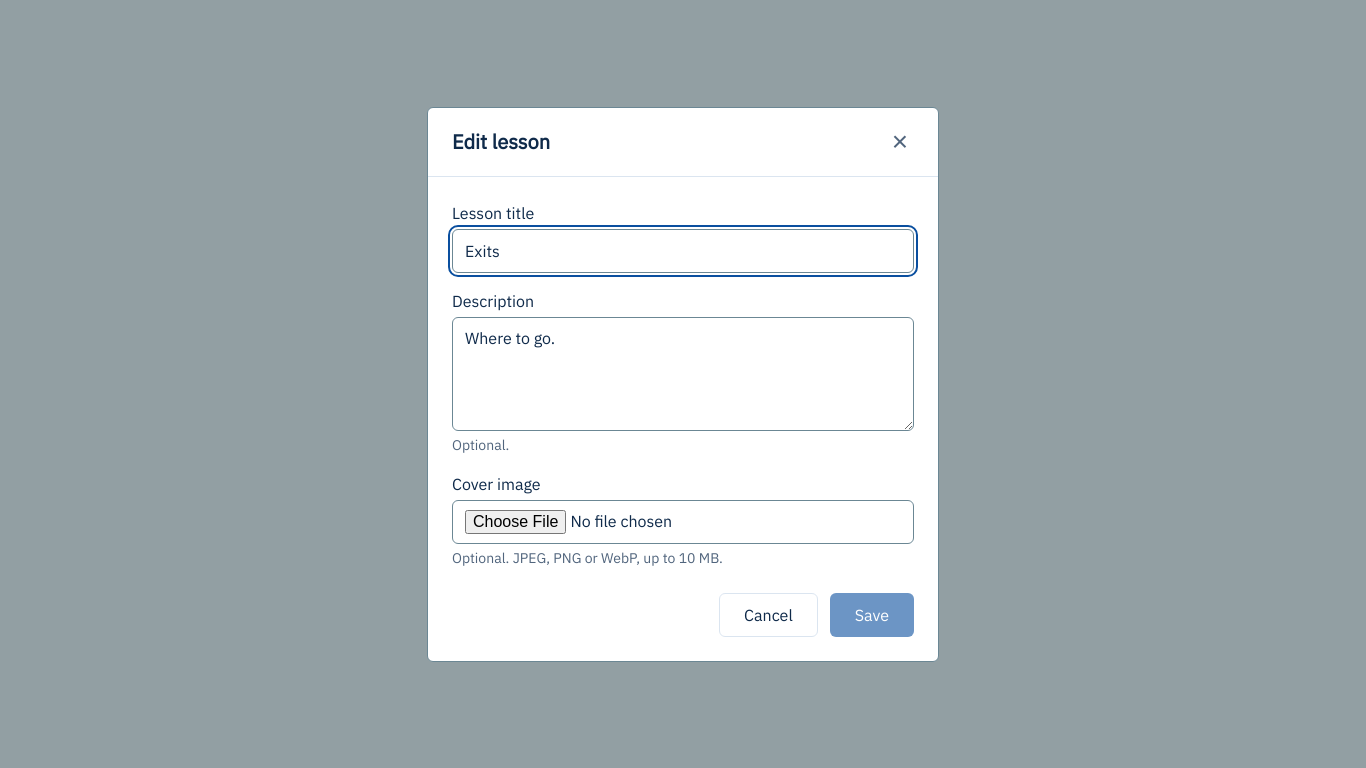
Scenario: editing saves only what changed, and only after the changes were shown › asks before throwing away unsaved changes
Type " two" into the field labelled "Lesson title" at (683, 250), box [452,228,914,272]
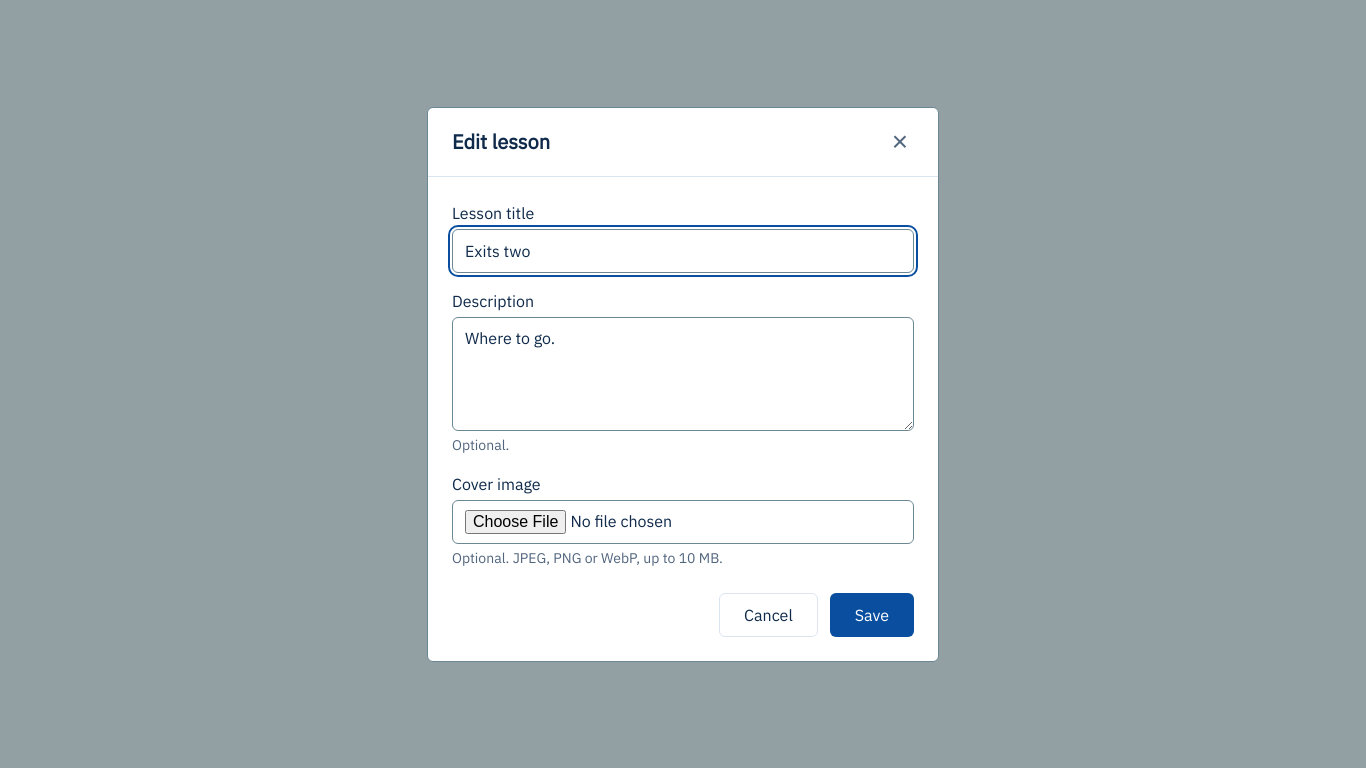
Click the button "Cancel" at (768, 614), box [719,592,818,636]
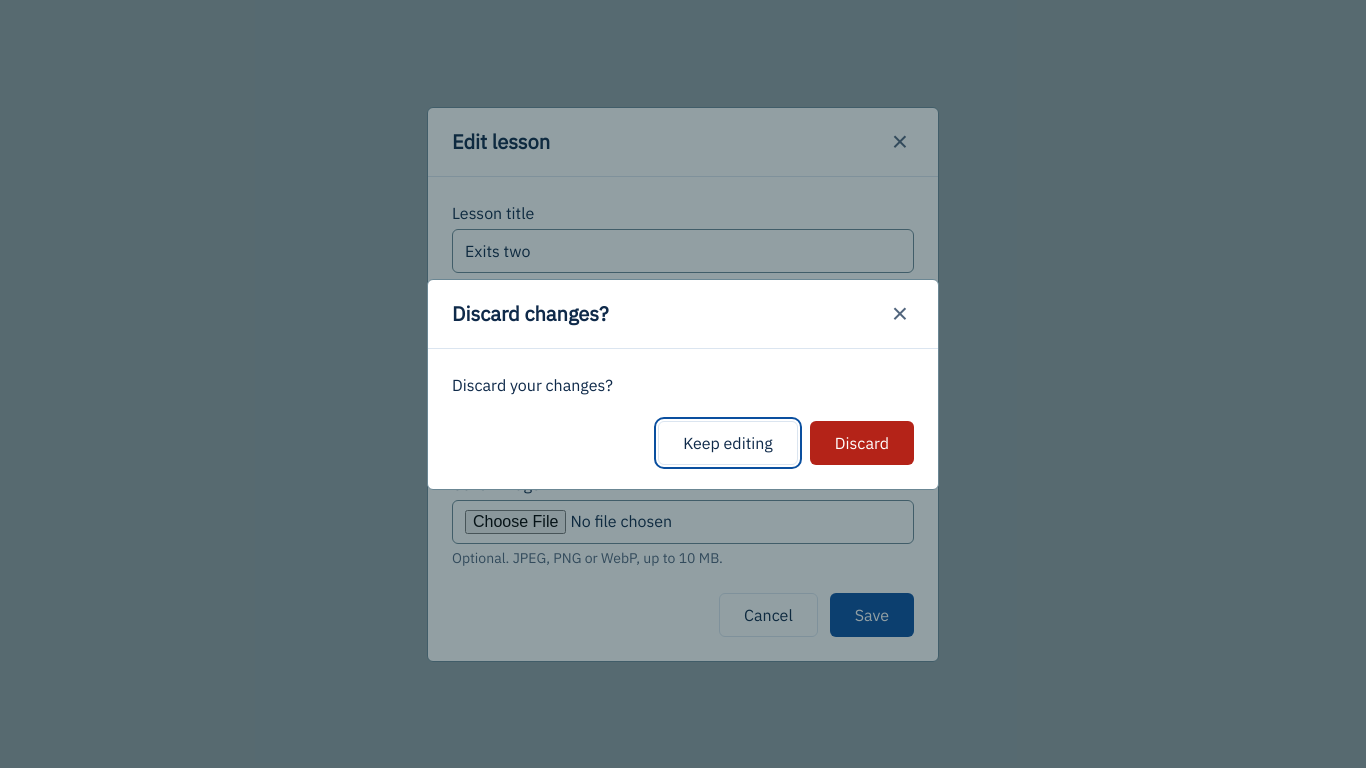
Expected: the dialog "Discard changes?" is shown, [427,278,939,490]
